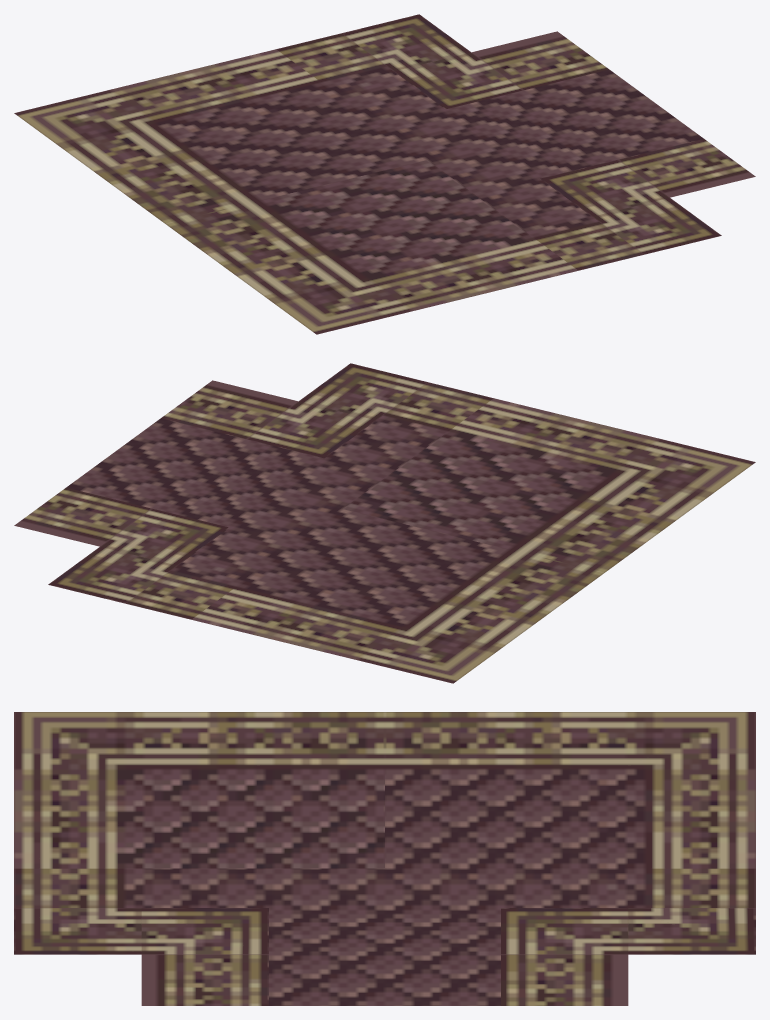
The model's file is EnvMdrMD_Castle_A_GrdCpt_Stairs_FR_Library_A.FBX.
3 renders of one model, top to bottom at view 1: azimuth 30°, elevation 25°; view 2: azimuth 150°, elevation 25°; view 3: azimuth 270°, elevation 25°, orthographic. The views are drawn at different scales.
Visible parts, largest first — view 1: EnvMdrMD_Castle_A_GrdCpt_Stairs_FR_Library_A; view 2: EnvMdrMD_Castle_A_GrdCpt_Stairs_FR_Library_A; view 3: EnvMdrMD_Castle_A_GrdCpt_Stairs_FR_Library_A.
Part boxes in pixels (left/top/right/bottom): EnvMdrMD_Castle_A_GrdCpt_Stairs_FR_Library_A: left=14, top=14, right=755, bottom=334; EnvMdrMD_Castle_A_GrdCpt_Stairs_FR_Library_A: left=14, top=363, right=755, bottom=683; EnvMdrMD_Castle_A_GrdCpt_Stairs_FR_Library_A: left=14, top=712, right=755, bottom=1005.
Bounding box in the file's own units: 375 × 2.49e-14 × 400.
1 material, 1 textured.
